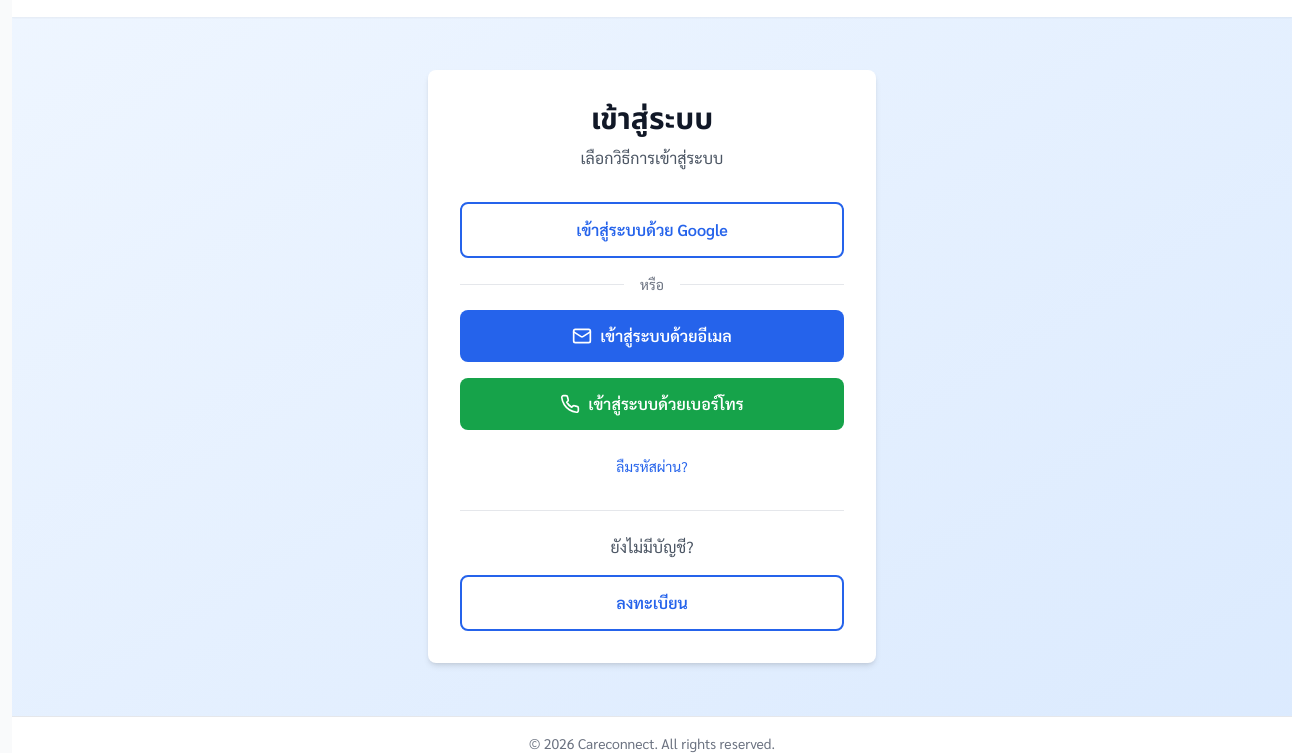
Test: Auth entry navigation › navigates to phone login
Step 1. Click the button "เข้าสู่ระบบด้วยเบอร์โทร" → [652, 404], box [460, 378, 844, 430]
(page scrolled)
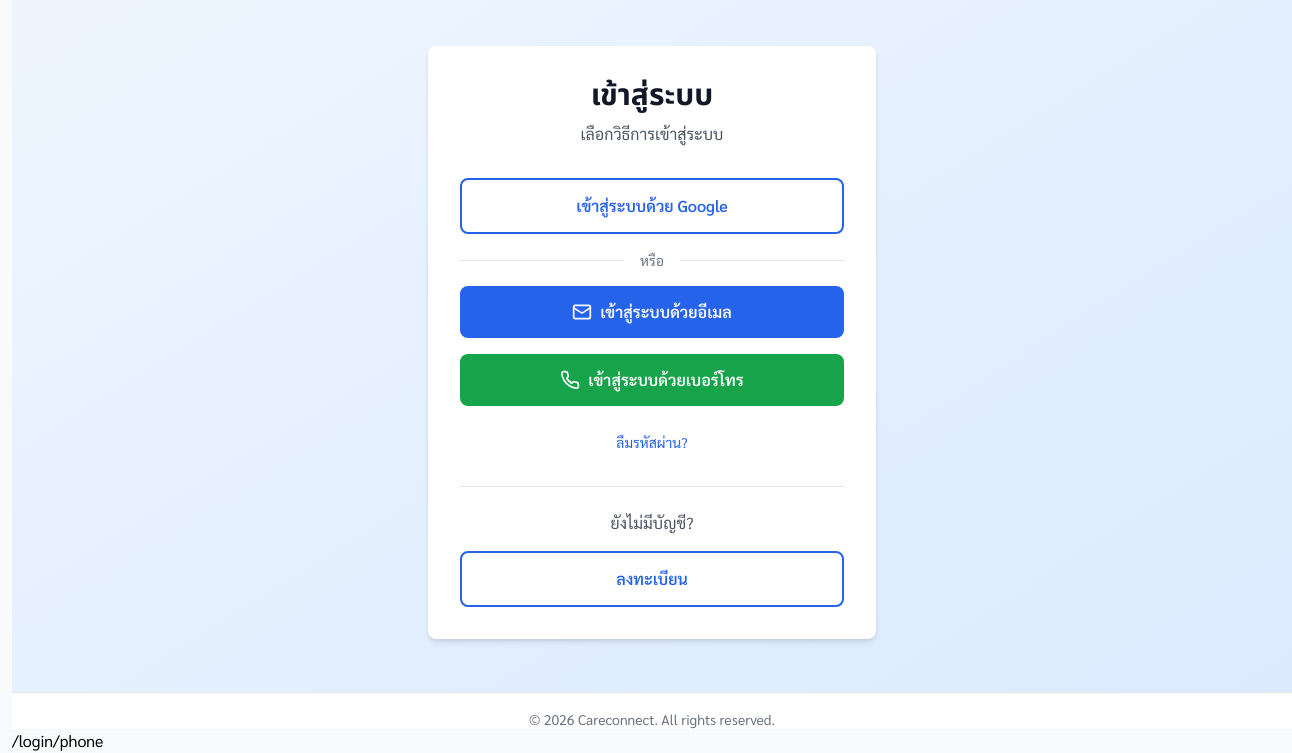
Result: the text with test id "location" reads "/login/phone" at [12, 730, 103, 751]
